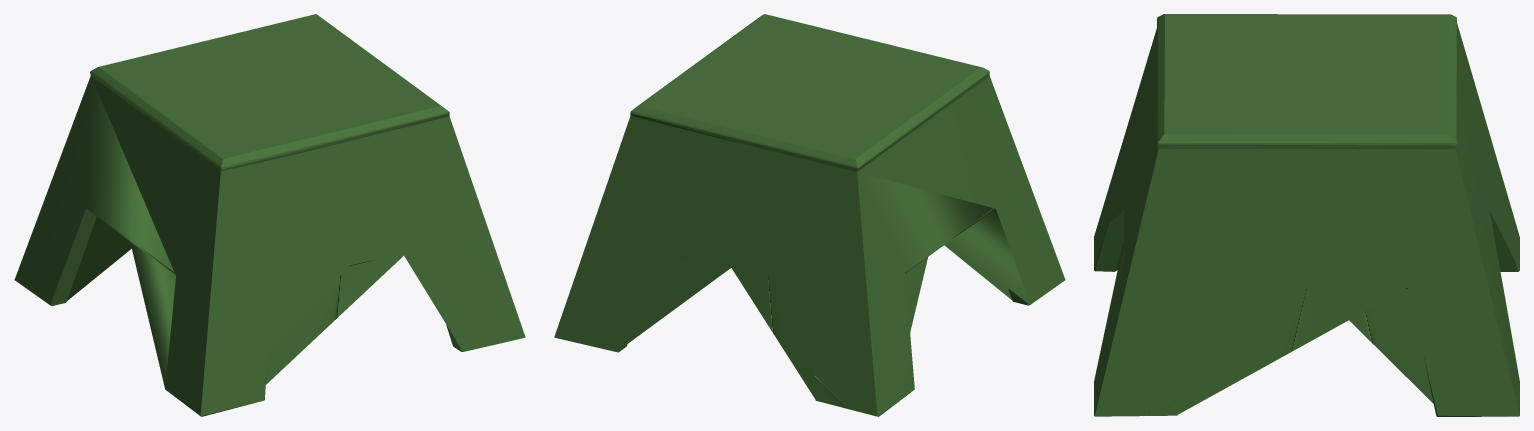
Rendered from Small Chair_LOD2.fbx.
3 views of the same model, side by side, from view 1: azimuth 30°, elevation 25°; view 2: azimuth 150°, elevation 25°; view 3: azimuth 270°, elevation 25° (orthographic). The views are drawn at different scales.
Parts seen in each view (by area): view 1: Small Chair; view 2: Small Chair; view 3: Small Chair.
Part boxes in pixels (<box>): Small Chair: <box>14,14,525,416</box>; Small Chair: <box>554,14,1065,416</box>; Small Chair: <box>1094,14,1519,416</box>.
Bounding box in the file's own units: 246 × 161 × 246.
